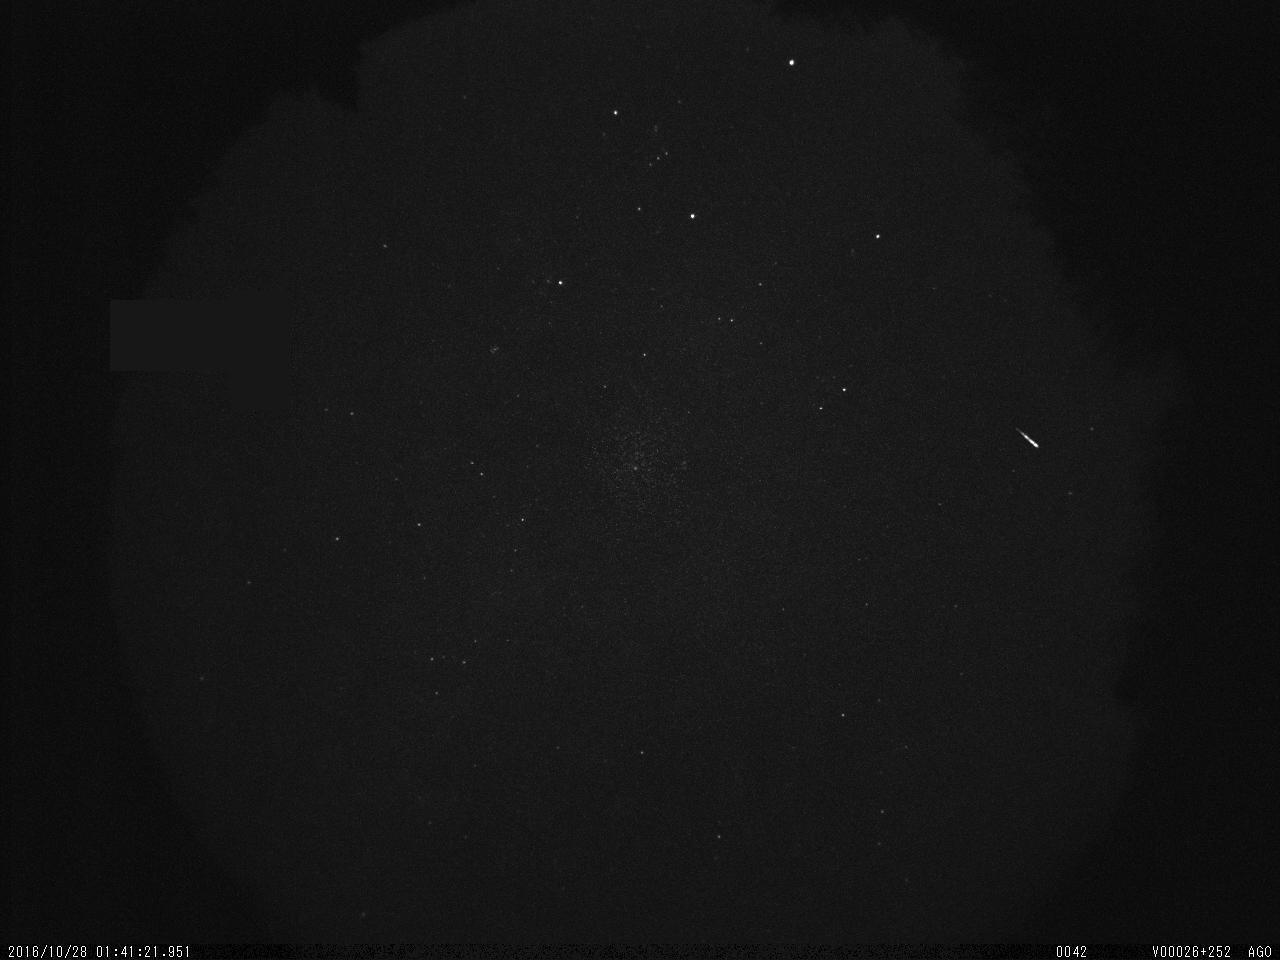meteor: (1010, 422, 1046, 455)
